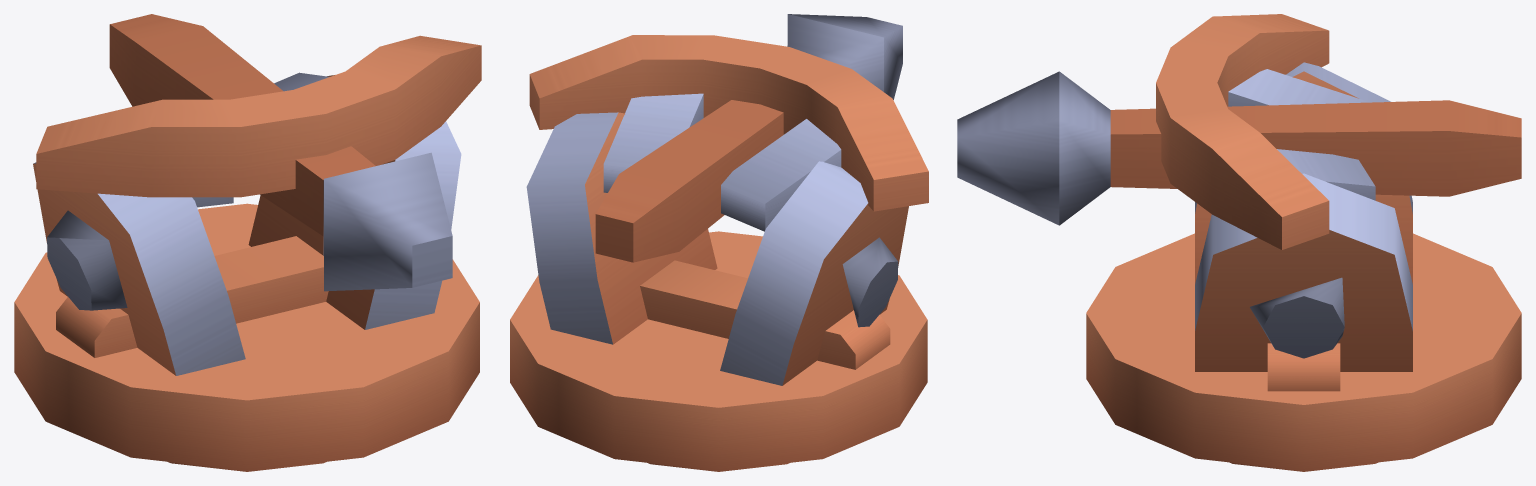
Rendered from cc0-weapon-ballista-lod1.glb.
The picture shows the model from 3 angles, left to right: view 1: azimuth 30°, elevation 25°; view 2: azimuth 150°, elevation 25°; view 3: azimuth 270°, elevation 25°; orthographic projection. The views are drawn at different scales.
Parts seen in each view (by area): view 1: part_0; view 2: part_0; view 3: part_0.
Boxes of the visible parts, box(x1,y1,x2,y2) form: part_0: box(14, 14, 481, 471); part_0: box(510, 14, 928, 471); part_0: box(957, 14, 1521, 471).
Bounding box in the file's own units: 0.6627 × 0.5 × 0.7776.
Materials: 1 (1 with a texture image).
